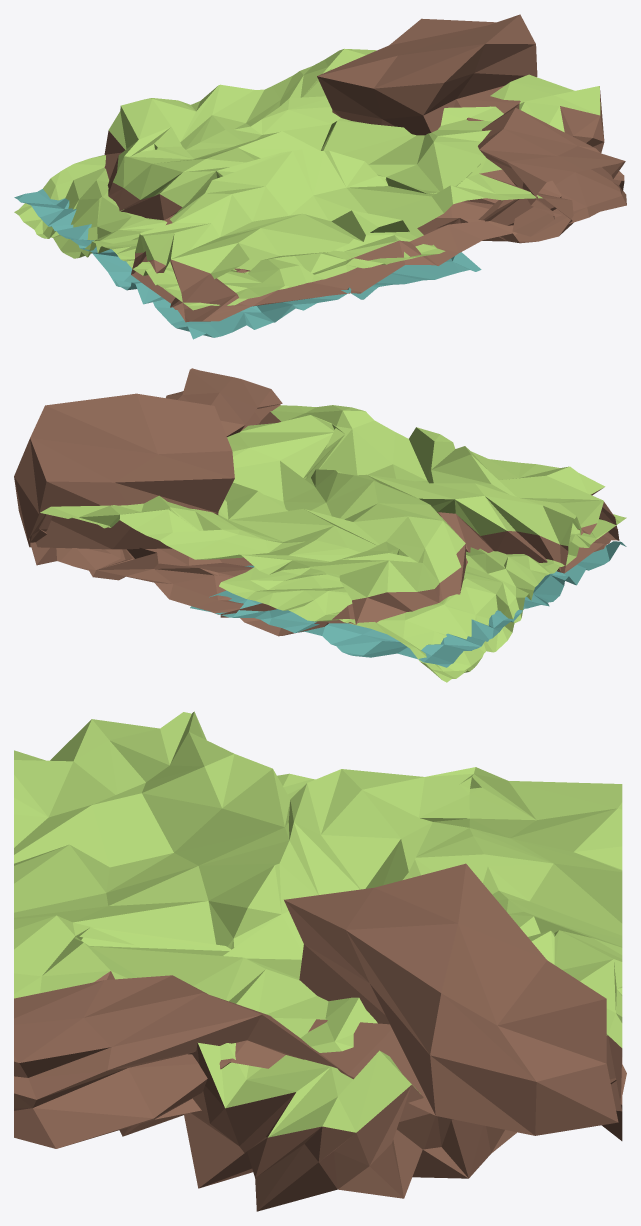
File: RG_Terrain-Mesh-07.fbx
The picture shows the model from 3 angles, top to bottom: view 1: azimuth 30°, elevation 25°; view 2: azimuth 150°, elevation 25°; view 3: azimuth 270°, elevation 25°; orthographic projection. The views are drawn at different scales.
Visible parts, largest first — view 1: RG_Terrain-Mesh-07; view 2: RG_Terrain-Mesh-07; view 3: RG_Terrain-Mesh-07.
Boxes of the visible parts, x1,y1,x2,y2 form: RG_Terrain-Mesh-07: (14,14,626,339); RG_Terrain-Mesh-07: (14,368,626,682); RG_Terrain-Mesh-07: (14,711,626,1211).
Size of the model in its own units: 177 by 47.99 by 111.
